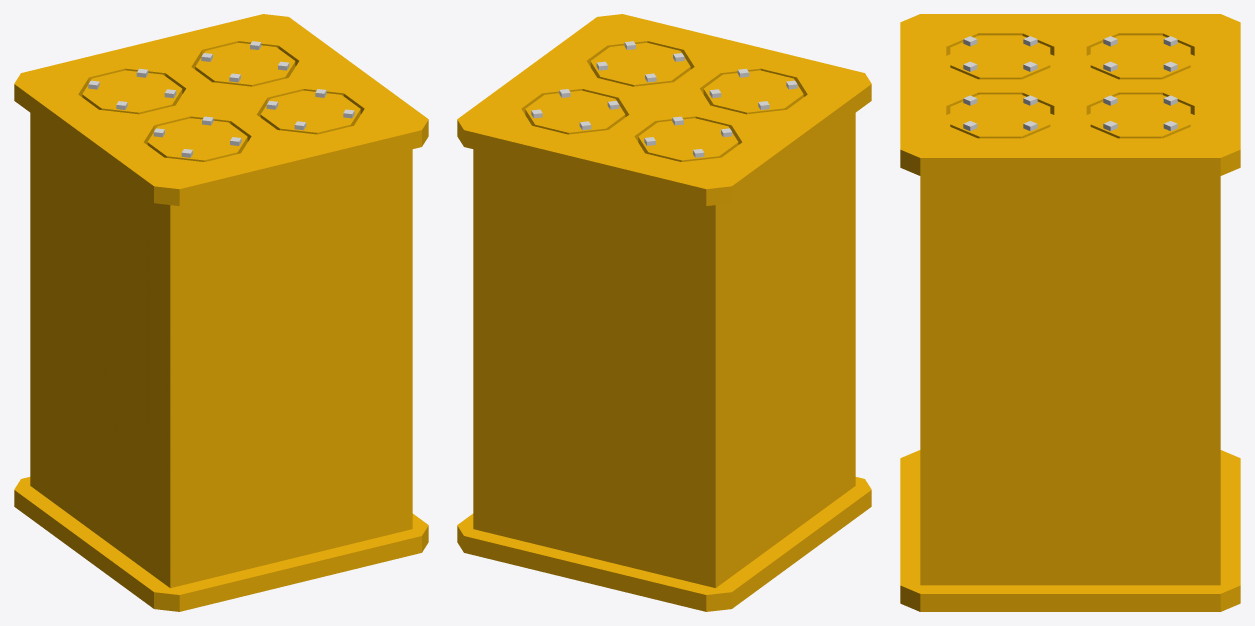
Rendered from modular_engine_manifold_housing_straight.dae.
The picture shows the model from 3 angles, left to right: view 1: azimuth 30°, elevation 25°; view 2: azimuth 150°, elevation 25°; view 3: azimuth 270°, elevation 25°; orthographic projection. The views are drawn at different scales.
Parts seen in each view (by area): view 1: Cube; view 2: Cube; view 3: Cube.
Boxes of the visible parts, x1=… form: Cube: x1=14, y1=14, x2=428, y2=611; Cube: x1=457, y1=14, x2=871, y2=611; Cube: x1=900, y1=14, x2=1240, y2=611.
Size of the model in its own units: 0.17 by 0.17 by 0.255.
